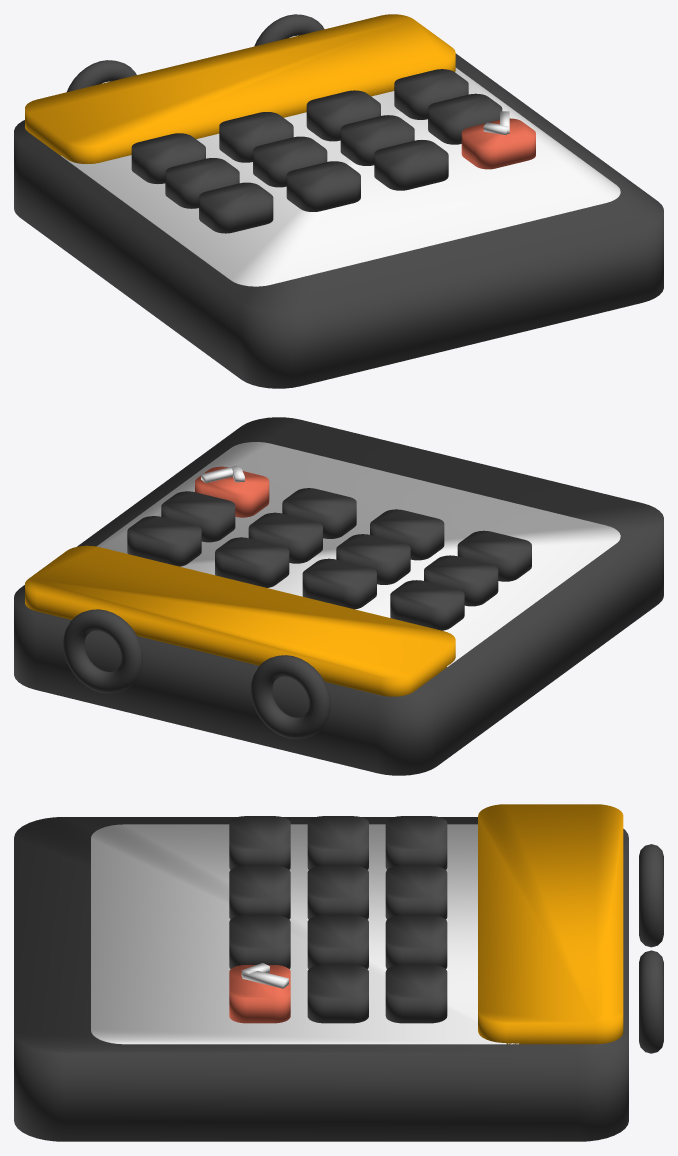
File: calendar.glb
The picture shows the model from 3 angles, top to bottom: view 1: azimuth 30°, elevation 25°; view 2: azimuth 150°, elevation 25°; view 3: azimuth 270°, elevation 25°; orthographic projection. The views are drawn at different scales.
Parts seen in each view (by area): view 1: CalBody, CalFace, CalHeader, CalBtn_2_0, CalBtn_2_2, CalBtn_2_1, CalBtn_2_3, CalBtn_0_2, CalBtn_1_2, CalBtn_0_0, CalBtn_1_1, CalBtn_0_1 (+5 smaller); view 2: CalBody, CalHeader, CalFace, CalRing_L, CalRing_R, CalBtn_0_0, CalBtn_0_2, CalBtn_0_1, CalBtn_0_3, CalBtn_2_1, CalBtn_1_0, CalBtn_1_3 (+5 smaller); view 3: CalBody, CalFace, CalHeader, CalBtn_0_3, CalBtn_1_3, CalBtn_0_1, CalBtn_0_0, CalBtn_0_2, CalBtn_2_1, CalBtn_1_1, CalBtn_1_2, CalBtn_2_0 (+6 smaller).
Boxes of the visible parts, x1=… form: CalBody: x1=14, y1=53, x2=663, y2=388; CalFace: x1=61, y1=67, x2=620, y2=286; CalHeader: x1=25, y1=14, x2=455, y2=163; CalBtn_2_0: x1=199, y1=182, x2=273, y2=233; CalBtn_2_2: x1=374, y1=140, x2=448, y2=190; CalBtn_2_1: x1=286, y1=161, x2=360, y2=211; CalBtn_2_3: x1=461, y1=118, x2=535, y2=169; CalBtn_0_2: x1=306, y1=90, x2=380, y2=141; CalBtn_1_2: x1=340, y1=115, x2=414, y2=165; CalBtn_0_0: x1=131, y1=133, x2=205, y2=183; CalBtn_1_1: x1=253, y1=136, x2=327, y2=187; CalBtn_0_1: x1=219, y1=112, x2=293, y2=162; CalBody: x1=14, y1=417, x2=663, y2=775; CalHeader: x1=25, y1=545, x2=455, y2=696; CalFace: x1=96, y1=442, x2=620, y2=666; CalRing_L: x1=250, y1=655, x2=330, y2=739; CalRing_R: x1=63, y1=609, x2=142, y2=693; CalBtn_0_0: x1=390, y1=580, x2=464, y2=630; CalBtn_0_2: x1=215, y1=537, x2=289, y2=587; CalBtn_0_1: x1=302, y1=558, x2=376, y2=609; CalBtn_0_3: x1=127, y1=516, x2=201, y2=566; CalBtn_2_1: x1=370, y1=509, x2=444, y2=560; CalBtn_1_0: x1=424, y1=555, x2=498, y2=606; CalBtn_1_3: x1=161, y1=491, x2=235, y2=542; CalBody: x1=14, y1=817, x2=628, y2=1141; CalFace: x1=91, y1=824, x2=518, y2=1044; CalHeader: x1=478, y1=804, x2=623, y2=1044; CalBtn_0_3: x1=385, y1=965, x2=447, y2=1023; CalBtn_1_3: x1=307, y1=965, x2=368, y2=1023; CalBtn_0_1: x1=385, y1=865, x2=447, y2=919; CalBtn_0_0: x1=385, y1=816, x2=447, y2=869; CalBtn_0_2: x1=385, y1=915, x2=447, y2=968; CalBtn_2_1: x1=229, y1=865, x2=290, y2=919; CalBtn_1_1: x1=307, y1=865, x2=368, y2=919; CalBtn_1_2: x1=307, y1=915, x2=368, y2=968; CalBtn_2_0: x1=229, y1=816, x2=290, y2=869.
Bounding box in the file's own units: 2 × 0.5075 × 2.32.
